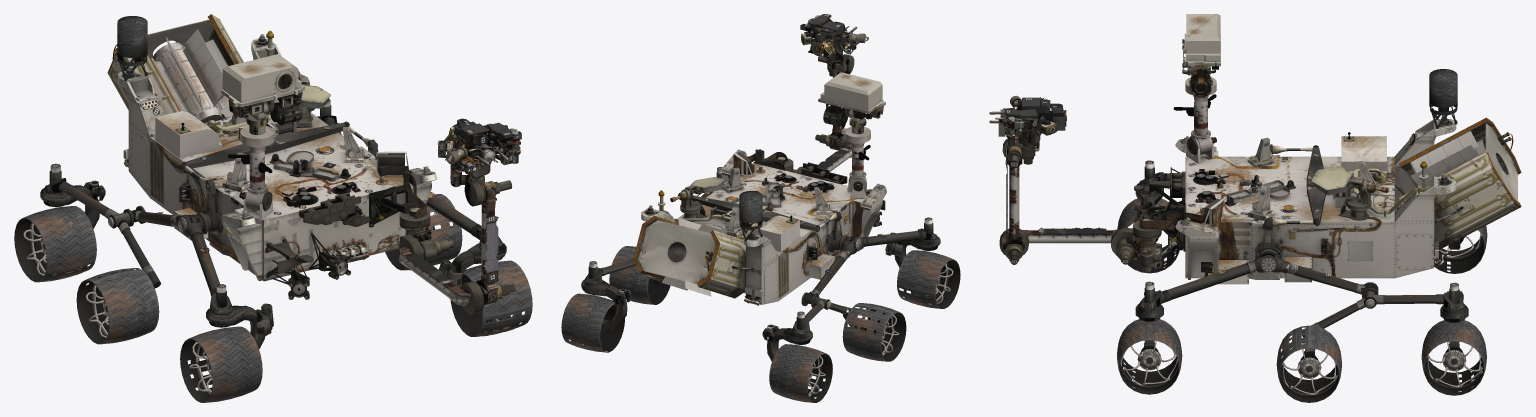
File: curiosity.glb
3 views of the same model, side by side, from view 1: azimuth 30°, elevation 25°; view 2: azimuth 150°, elevation 25°; view 3: azimuth 270°, elevation 25° (orthographic). The views are drawn at different scales.
Visible parts, largest first — view 1: MSL, NASA_Wheel_5, NASA_Wheel_4, NASA_Wheel_3, NASA_Wheel_0, NASA_Wheel_1; view 2: MSL, NASA_Wheel_3, NASA_Wheel_5, NASA_Wheel_4, NASA_Wheel_2, NASA_Wheel_1; view 3: MSL, NASA_Wheel_1, NASA_Wheel_0, NASA_Wheel_2, NASA_Wheel_5, NASA_Wheel_3.
Boxes of the visible parts, x1,y1,x2,y2 form: MSL: (40,14,521,349); NASA_Wheel_5: (14,206,96,282); NASA_Wheel_4: (76,268,159,344); NASA_Wheel_3: (180,326,262,402); NASA_Wheel_0: (450,260,532,336); NASA_Wheel_1: (385,194,462,270); MSL: (581,14,940,361); NASA_Wheel_3: (897,250,960,308); NASA_Wheel_5: (769,344,832,402); NASA_Wheel_4: (842,303,906,361); NASA_Wheel_2: (561,293,624,352); NASA_Wheel_1: (609,246,670,304); MSL: (989,14,1521,355); NASA_Wheel_1: (1276,325,1341,402); NASA_Wheel_0: (1117,319,1182,394); NASA_Wheel_2: (1421,320,1486,395); NASA_Wheel_5: (1434,226,1487,273); NASA_Wheel_3: (1117,198,1179,273).
Size of the model in its own units: 2.78 by 2.22 by 3.94.
Materials: 9 (8 with a texture image).
